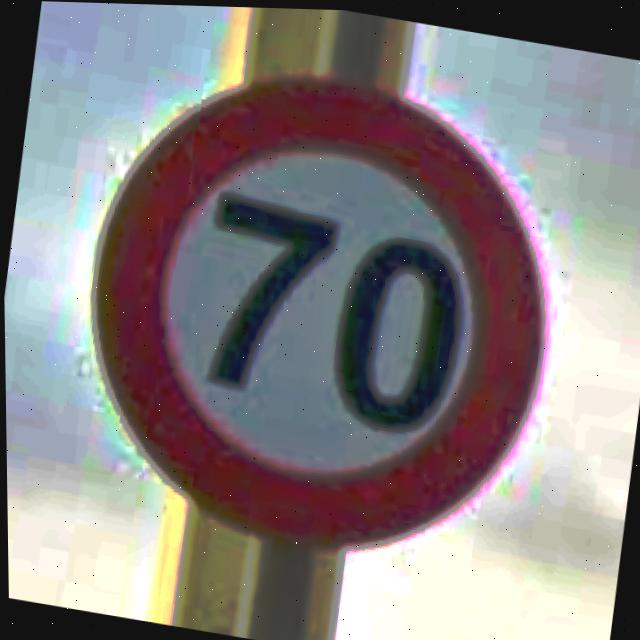max70: (54, 32, 580, 583)
